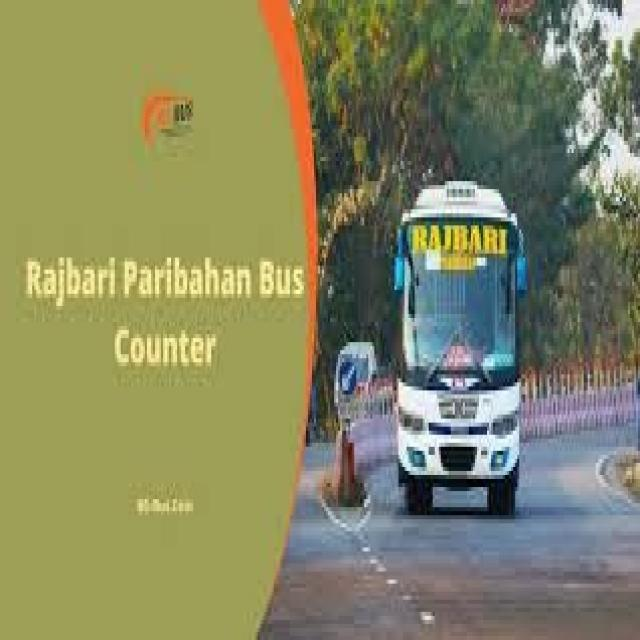bus: (394, 159, 529, 532)
